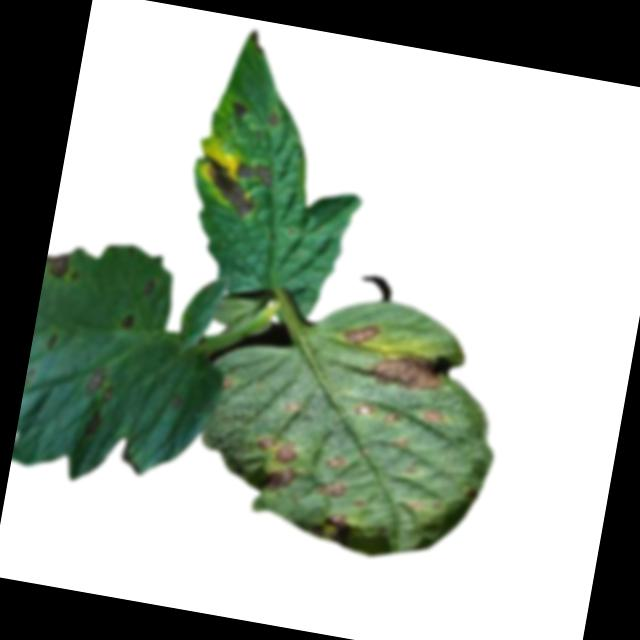Early_blight: (367, 347, 451, 395), (197, 156, 261, 218), (304, 506, 355, 545), (249, 431, 299, 467), (82, 365, 118, 404), (233, 155, 278, 186), (261, 464, 301, 497), (342, 319, 384, 348), (315, 475, 351, 503), (44, 248, 72, 279), (82, 403, 106, 439), (419, 404, 445, 428), (353, 397, 378, 420), (324, 450, 347, 473), (120, 307, 139, 331), (382, 407, 403, 428), (230, 99, 250, 121), (264, 109, 285, 129), (143, 274, 157, 296)
